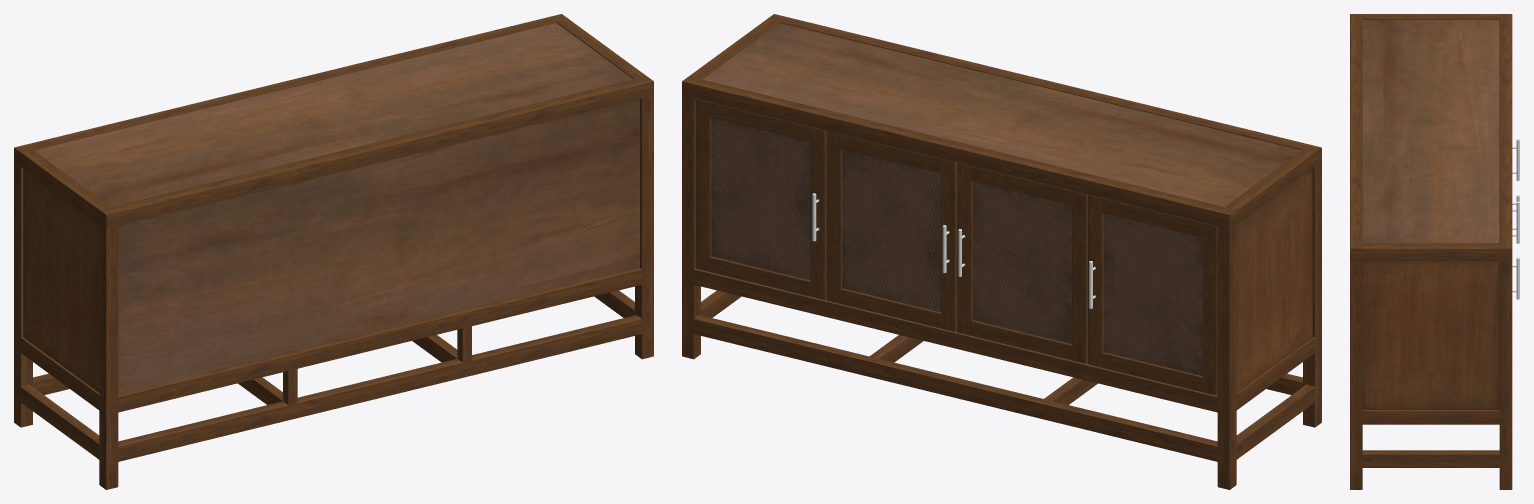
Rendered from abo_B07HSBD8DM.glb.
3 renders of one model, left to right at view 1: azimuth 30°, elevation 25°; view 2: azimuth 150°, elevation 25°; view 3: azimuth 270°, elevation 25°, orthographic. The views are drawn at different scales.
Visible parts, largest first — view 1: RootNode; view 2: RootNode; view 3: RootNode.
Boxes of the visible parts, bbox=[...] form: RootNode: bbox=[14, 14, 653, 489]; RootNode: bbox=[682, 14, 1321, 489]; RootNode: bbox=[1350, 14, 1519, 489].
Size of the model in its own units: 1.71 by 0.8201 by 0.5223.
Materials: 1 (1 with a texture image).
